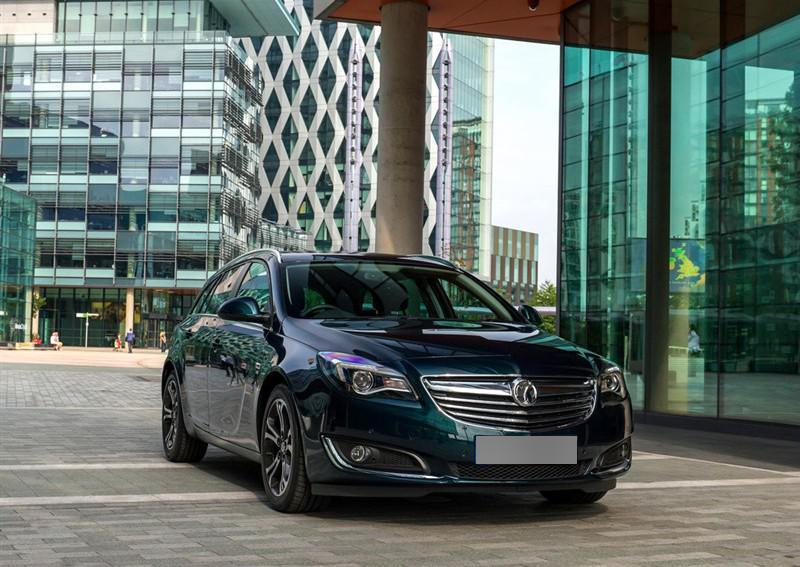Wagon: (161, 248, 635, 513)
